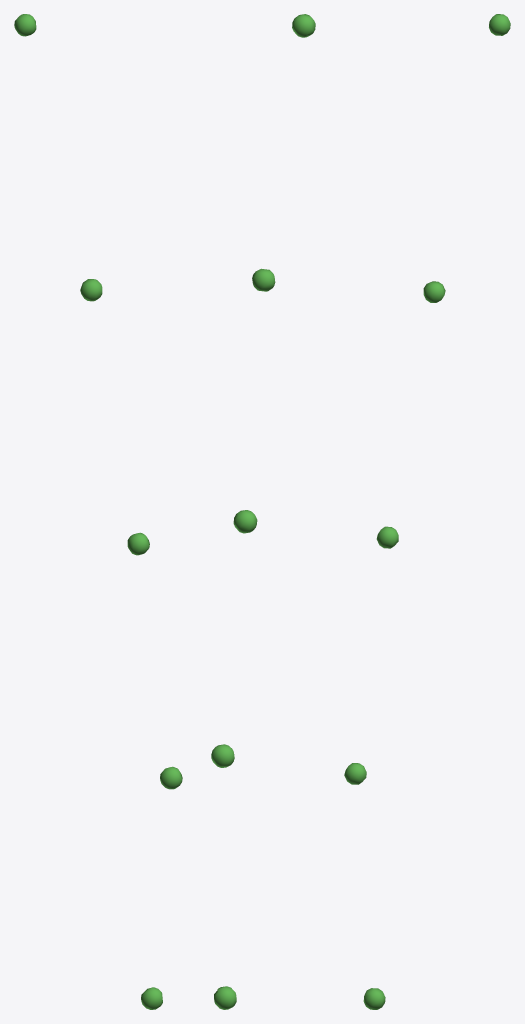
File: linfatico-lateral-caval-nodes.glb
The picture shows the model from 3 angles, left to right: view 1: azimuth 90°, elevation 25°; view 2: azimuth 210°, elevation 25°; view 3: azimuth 270°, elevation 25°; orthographic projection. The views are drawn at different scales.
Visible parts, largest first — view 1: Lateral caval nodes; view 2: Lateral caval nodes; view 3: Lateral caval nodes.
Part boxes in pixels (box(x1,y1,x2,y2)): Lateral caval nodes: box(14, 14, 182, 1009); Lateral caval nodes: box(211, 14, 315, 1009); Lateral caval nodes: box(344, 14, 510, 1009).
Bounding box in the file's own units: 0.00418 × 0.1241 × 0.0189.
